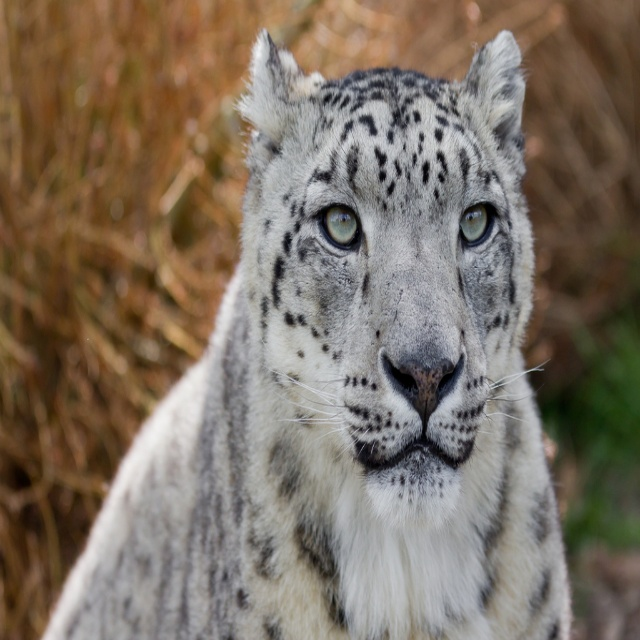Leopard: (35, 28, 575, 639)
